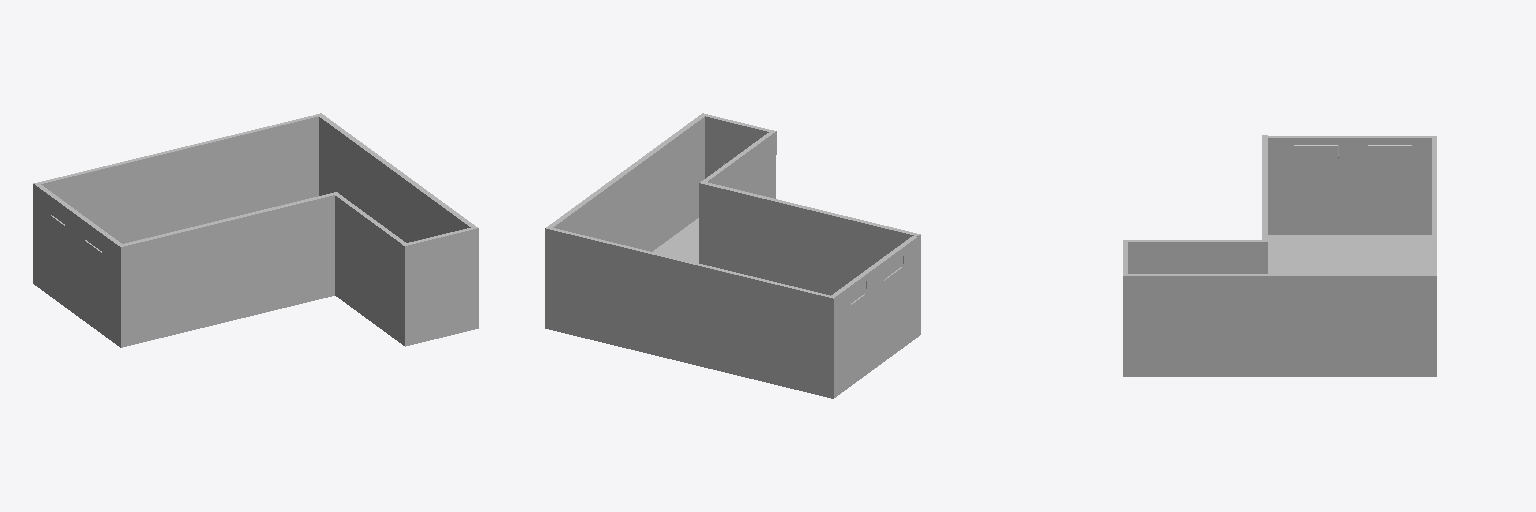
File: 厕所场景.obj
3 views of the same model, side by side, from view 1: azimuth 30°, elevation 25°; view 2: azimuth 150°, elevation 25°; view 3: azimuth 270°, elevation 25° (orthographic).
Visible parts, largest first — view 1: polySurface5; view 2: polySurface5; view 3: polySurface5.
Part boxes in pixels (bbox=[...]): polySurface5: bbox=[33, 113, 478, 347]; polySurface5: bbox=[545, 113, 920, 398]; polySurface5: bbox=[1123, 135, 1436, 376].
Bounding box in the file's own units: 27.41 × 9.16 × 25.9.